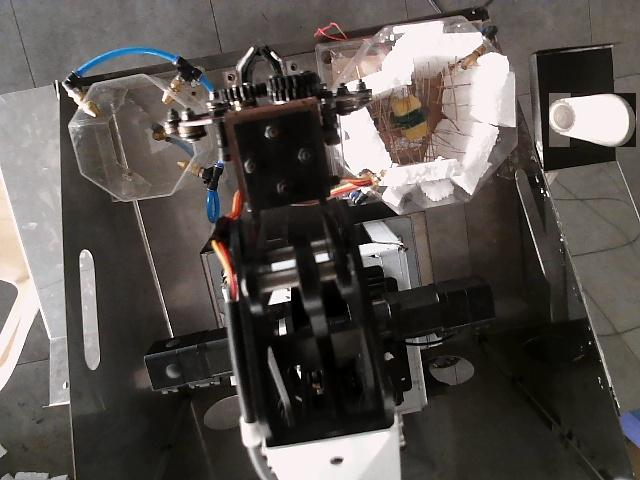cup: (549, 93, 636, 147)
